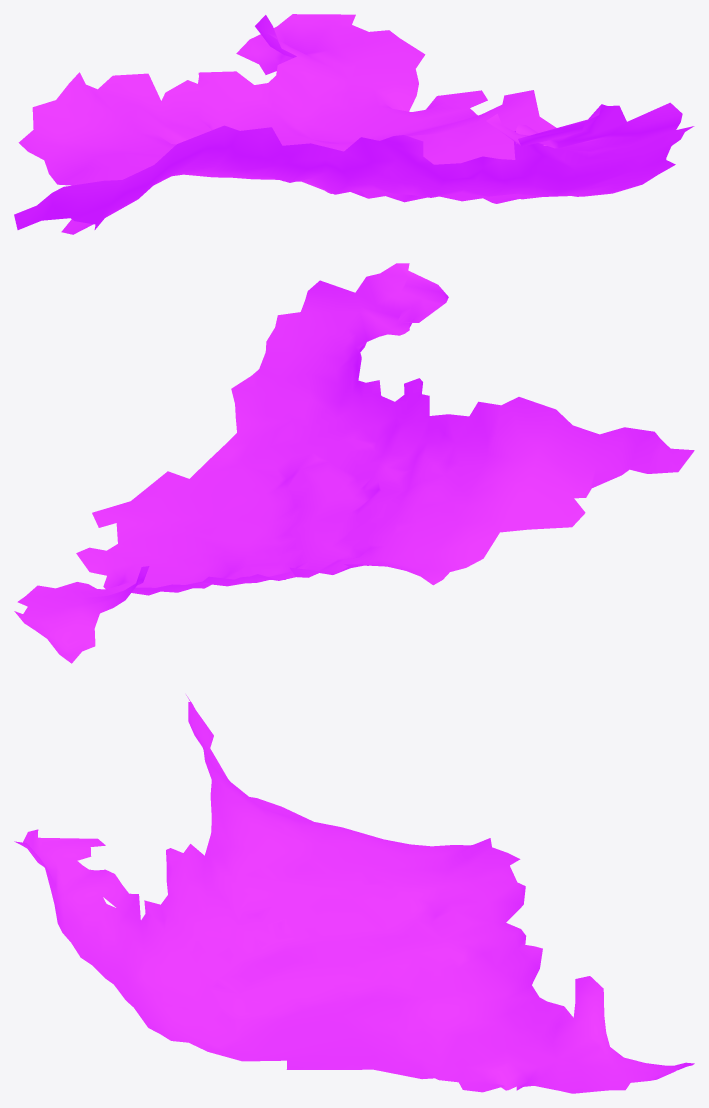
The model's file is nick_bionic_arm.glb.
The picture shows the model from 3 angles, top to bottom: view 1: azimuth 30°, elevation 25°; view 2: azimuth 150°, elevation 25°; view 3: azimuth 270°, elevation 25°; orthographic projection. The views are drawn at different scales.
Visible parts, largest first — view 1: Nick bionic arm; view 2: Nick bionic arm; view 3: Nick bionic arm.
Boxes of the visible parts, x1=… form: Nick bionic arm: x1=14, y1=14, x2=694, y2=234; Nick bionic arm: x1=14, y1=263, x2=694, y2=663; Nick bionic arm: x1=14, y1=695, x2=694, y2=1093.
Size of the model in its own units: 2.49 by 0.9 by 2.66.
